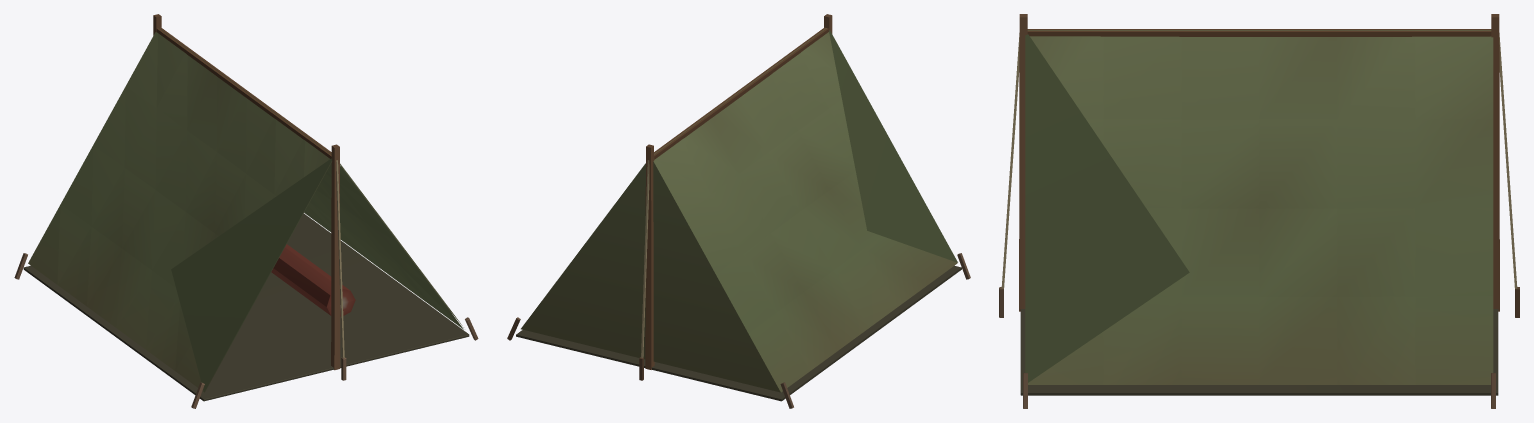
The model's file is forest_tent_01.glb.
The picture shows the model from 3 angles, left to right: view 1: azimuth 30°, elevation 25°; view 2: azimuth 150°, elevation 25°; view 3: azimuth 270°, elevation 25°; orthographic projection. The views are drawn at different scales.
Visible parts, largest first — view 1: forest_tent_01_fabric, forest_tent_01_poles; view 2: forest_tent_01_fabric, forest_tent_01_poles; view 3: forest_tent_01_fabric, forest_tent_01_poles.
Boxes of the visible parts, <box> form: forest_tent_01_fabric: <box>23,28,469,401</box>; forest_tent_01_poles: <box>14,14,478,408</box>; forest_tent_01_fabric: <box>516,28,961,401</box>; forest_tent_01_poles: <box>507,14,970,408</box>; forest_tent_01_fabric: <box>1001,30,1517,395</box>; forest_tent_01_poles: <box>999,14,1519,408</box>.
Bounding box in the file's own units: 2.19 × 1.68 × 2.62.
